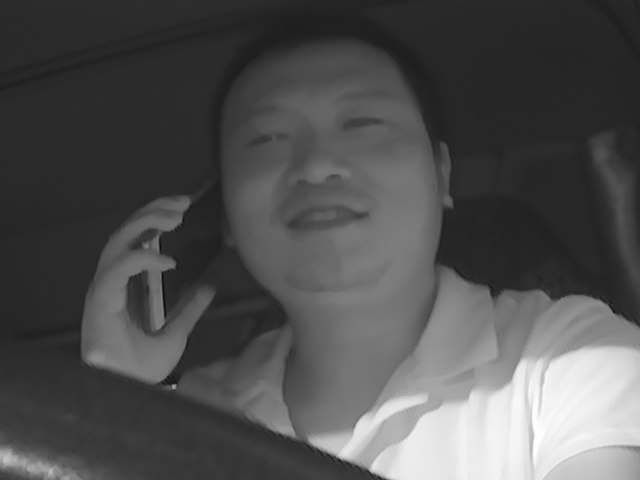hand: (79, 195, 213, 383)
